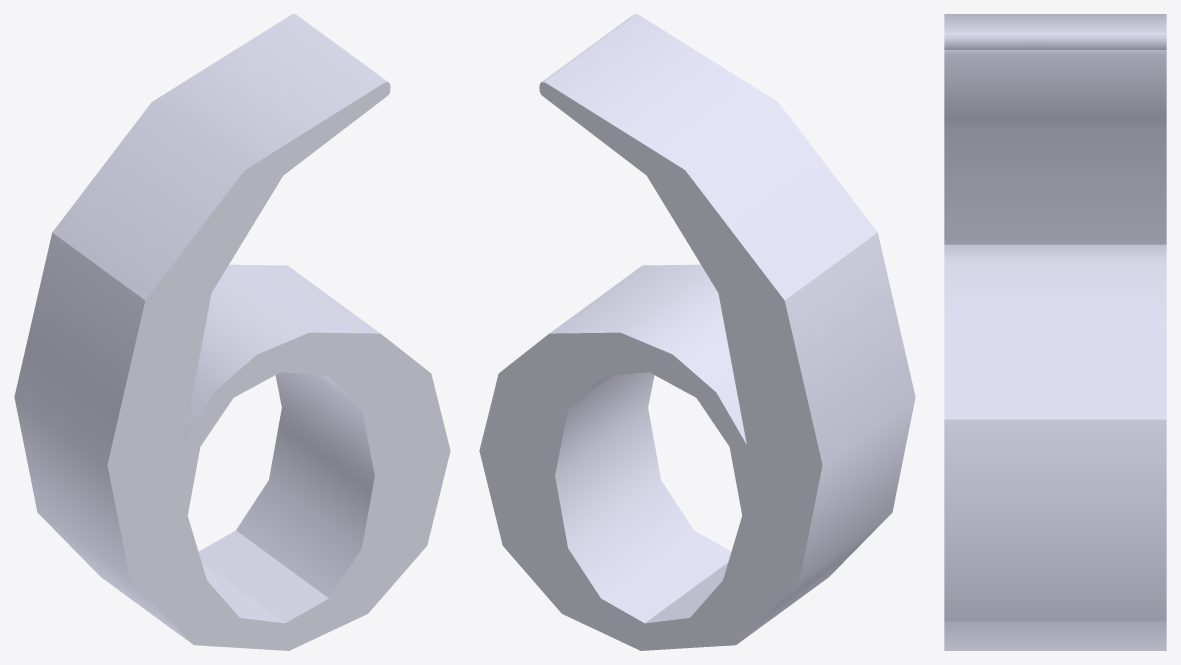
File: 2827e8ab-93ca-46a8-bf5d-9cb0c451dfb4.glb
3 renders of one model, left to right at view 1: azimuth 30°, elevation 25°; view 2: azimuth 150°, elevation 25°; view 3: azimuth 270°, elevation 25°, orthographic. The views are drawn at different scales.
Visible parts, largest first — view 1: 6_Soul_Grey; view 2: 6_Soul_Grey; view 3: 6_Soul_Grey.
Part boxes in pixels (box(x1,y1,x2,y2)): 6_Soul_Grey: box(14, 14, 450, 650); 6_Soul_Grey: box(479, 14, 915, 650); 6_Soul_Grey: box(944, 14, 1166, 650).
Size of what is drawn, in the model's own units: 0.0958 by 0.1455 by 0.045.
Materials: 2 (2 with a texture image).
